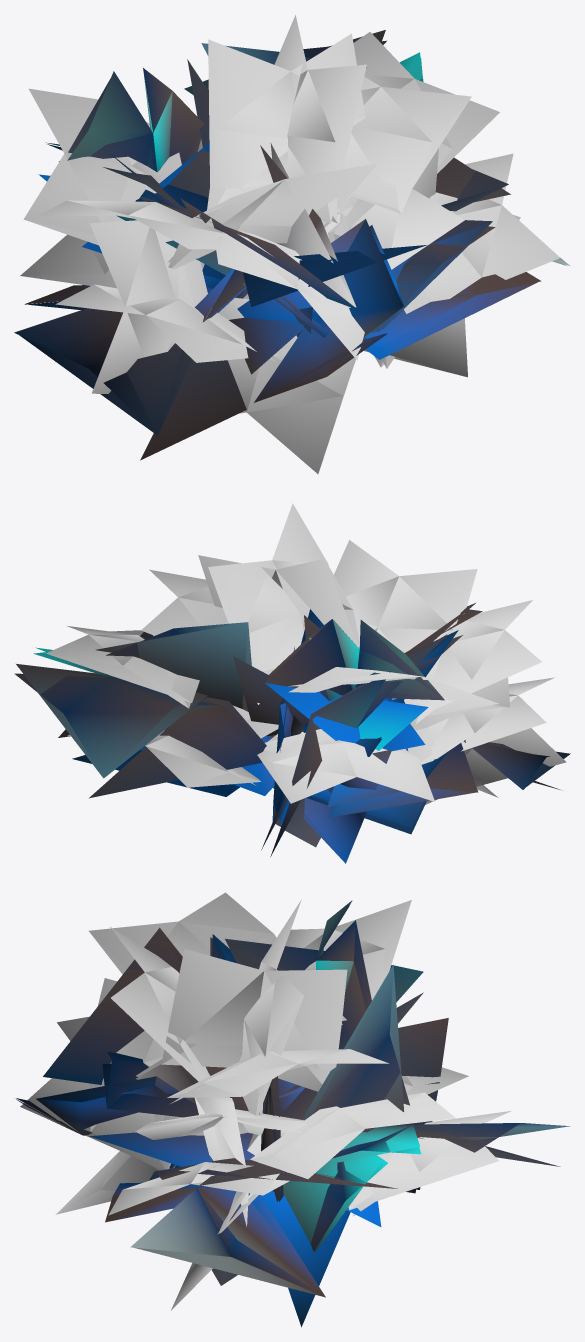
Rendered from shrub_d.dae.
The picture shows the model from 3 angles, top to bottom: view 1: azimuth 30°, elevation 25°; view 2: azimuth 150°, elevation 25°; view 3: azimuth 270°, elevation 25°; orthographic projection. The views are drawn at different scales.
Parts seen in each view (by area): view 1: shrub_d_a450, shrub_d_a150; view 2: shrub_d_a450, shrub_d_a150; view 3: shrub_d_a450, shrub_d_a150.
Part boxes in pixels (left/top/right/bottom): shrub_d_a450: left=14, top=15, right=570, bottom=473; shrub_d_a150: left=19, top=30, right=566, bottom=460; shrub_d_a450: left=14, top=503, right=570, bottom=863; shrub_d_a150: left=16, top=555, right=569, bottom=863; shrub_d_a450: left=16, top=892, right=570, bottom=1327; shrub_d_a150: left=16, top=900, right=568, bottom=1315.
Size of the model in its own units: 7.3 by 7.2 by 5.18.
